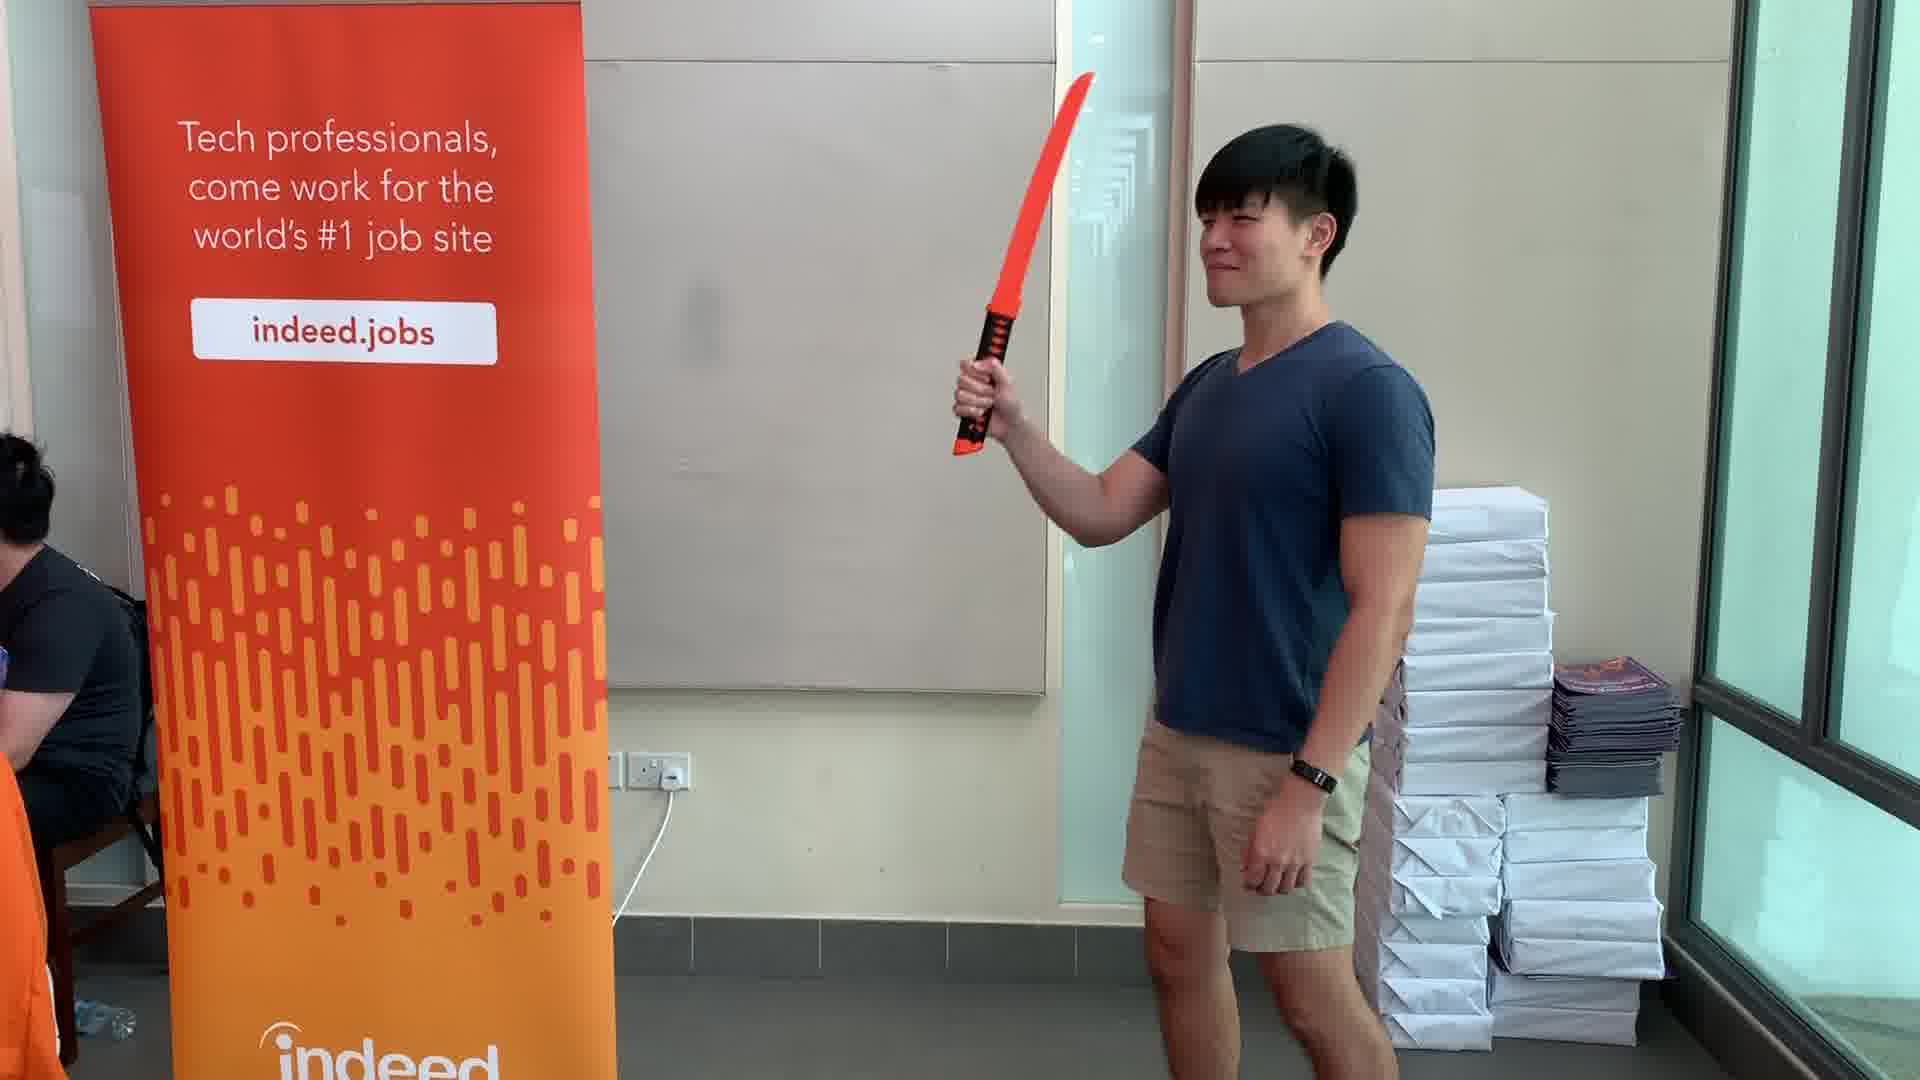knife: (945, 65, 1105, 465)
